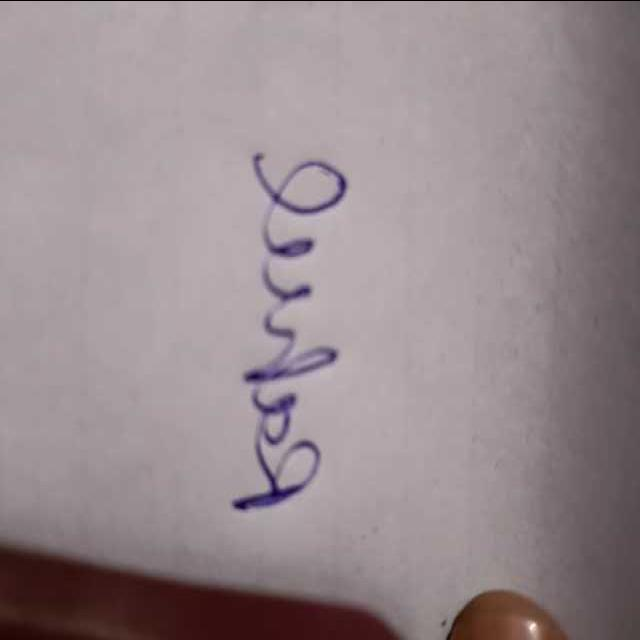signature: (230, 132, 362, 528)
